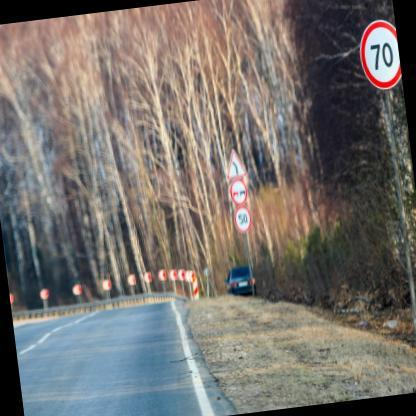road_sign: (361, 20, 401, 89), (228, 148, 247, 179), (234, 205, 252, 233), (230, 179, 247, 206)
